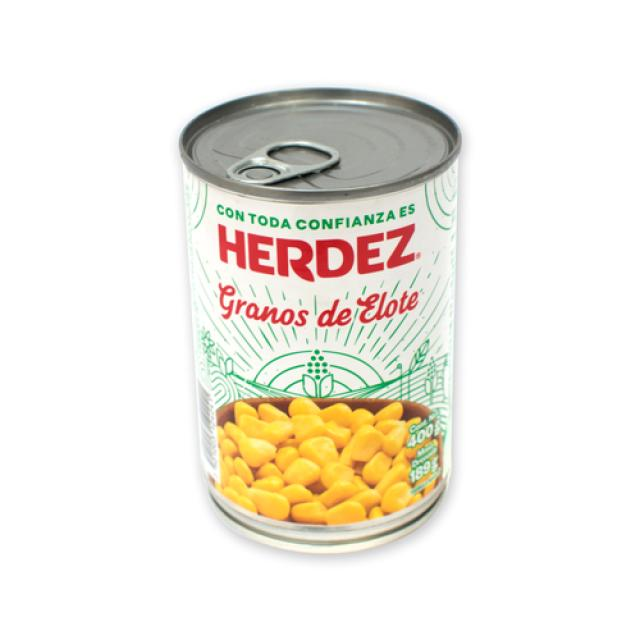Lata: (170, 82, 456, 543)
